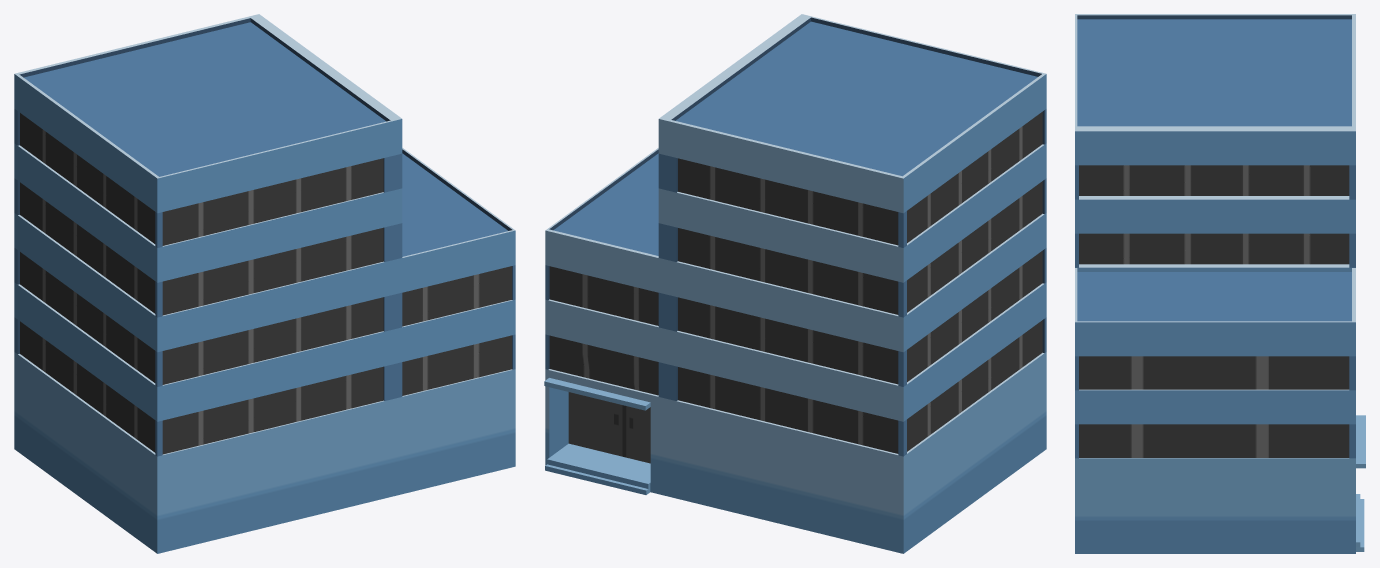
File: office_stepped_mesh.fbx
3 renders of one model, left to right at view 1: azimuth 30°, elevation 25°; view 2: azimuth 150°, elevation 25°; view 3: azimuth 270°, elevation 25°, orthographic.
Visible parts, largest first — view 1: office_stepped_mesh; view 2: office_stepped_mesh; view 3: office_stepped_mesh.
Part boxes in pixels (bbox=[...]): office_stepped_mesh: bbox=[14, 14, 515, 553]; office_stepped_mesh: bbox=[544, 14, 1046, 553]; office_stepped_mesh: bbox=[1075, 14, 1365, 553].
Bounding box in the file's own units: 19.41 × 19.44 × 13.92.
1 material, 1 textured.
